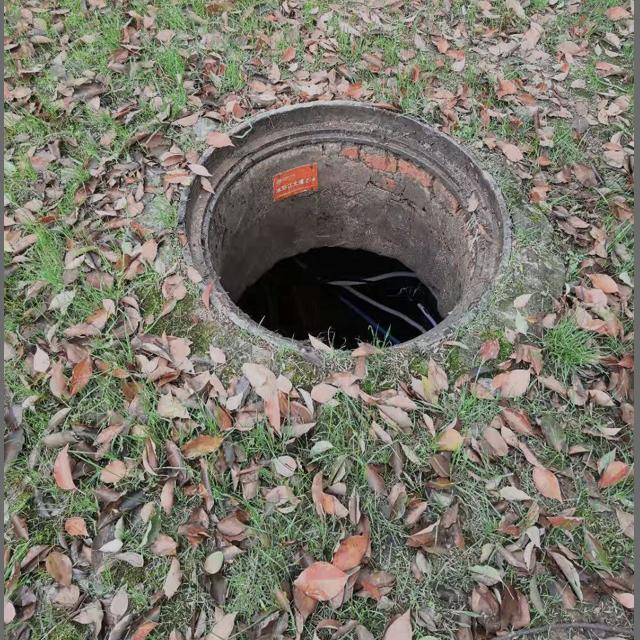lose: (174, 99, 511, 360)
